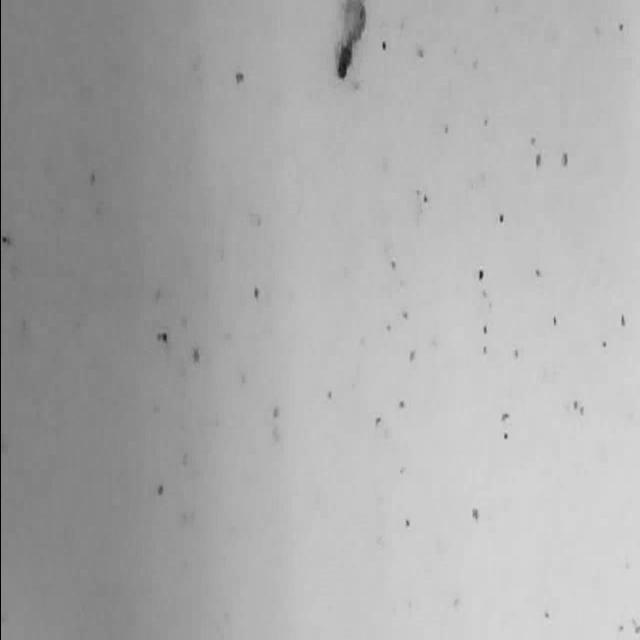larvas: (334, 0, 366, 81)
